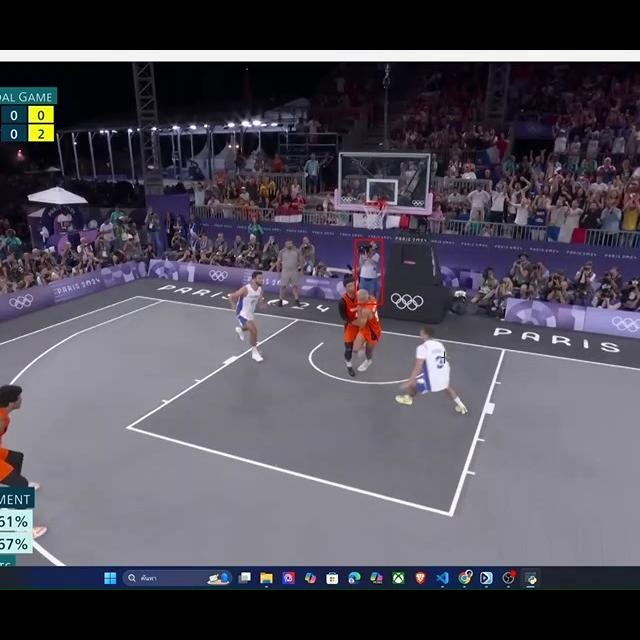hoop: (365, 198, 387, 232)
